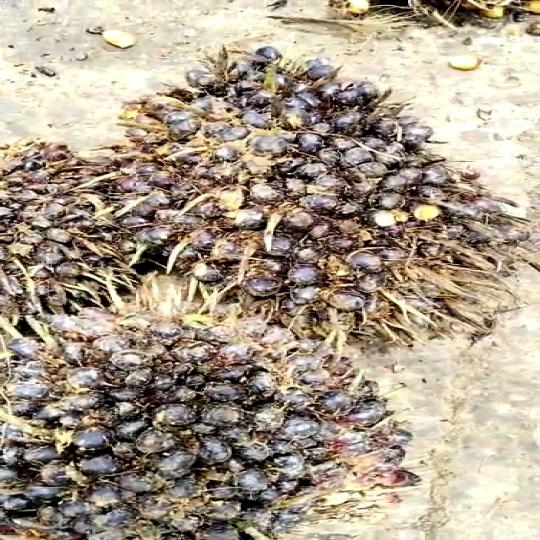mentah: (121, 43, 534, 334), (0, 279, 448, 540)
